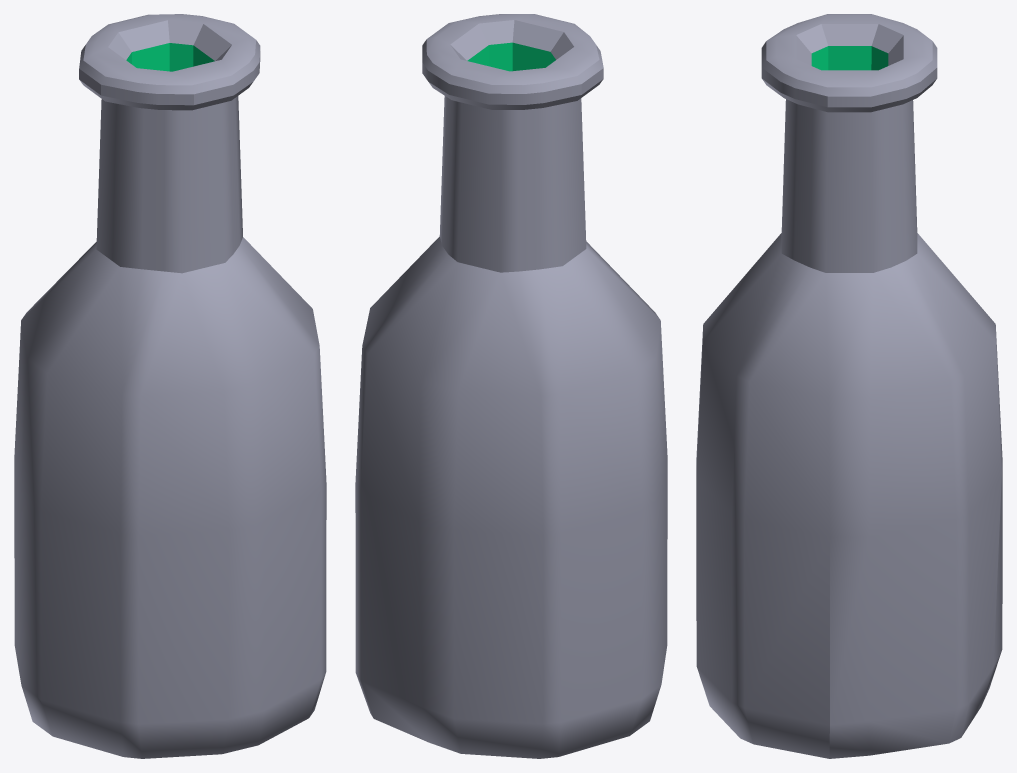
Rendered from OpenBottle.fbx.
3 renders of one model, left to right at view 1: azimuth 30°, elevation 25°; view 2: azimuth 150°, elevation 25°; view 3: azimuth 270°, elevation 25°, orthographic.
Visible parts, largest first — view 1: polySurface149; view 2: polySurface149; view 3: polySurface149.
Boxes of the visible parts, box(x1,y1,x2,y2) form: polySurface149: box(14, 14, 326, 758); polySurface149: box(355, 14, 667, 758); polySurface149: box(696, 14, 1002, 758).
Size of the model in its own units: 0.2552 by 0.5885 by 0.2446.
